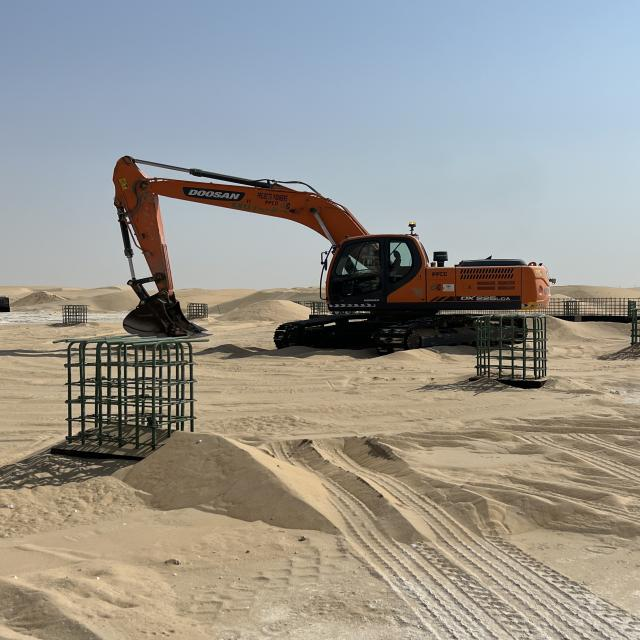Excavator: (109, 144, 551, 355)
